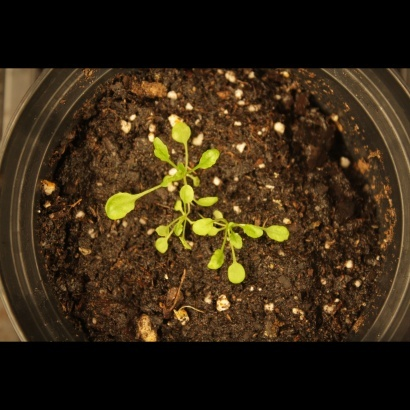leaf: (101, 191, 139, 225), (148, 136, 175, 169), (266, 217, 295, 247), (168, 121, 199, 146), (195, 188, 227, 212), (189, 216, 219, 239), (196, 146, 223, 170), (225, 261, 249, 287), (241, 217, 265, 242), (205, 247, 229, 271), (178, 184, 201, 207), (160, 192, 183, 215), (149, 216, 172, 239), (150, 237, 173, 260), (227, 228, 250, 251), (169, 216, 192, 239)
